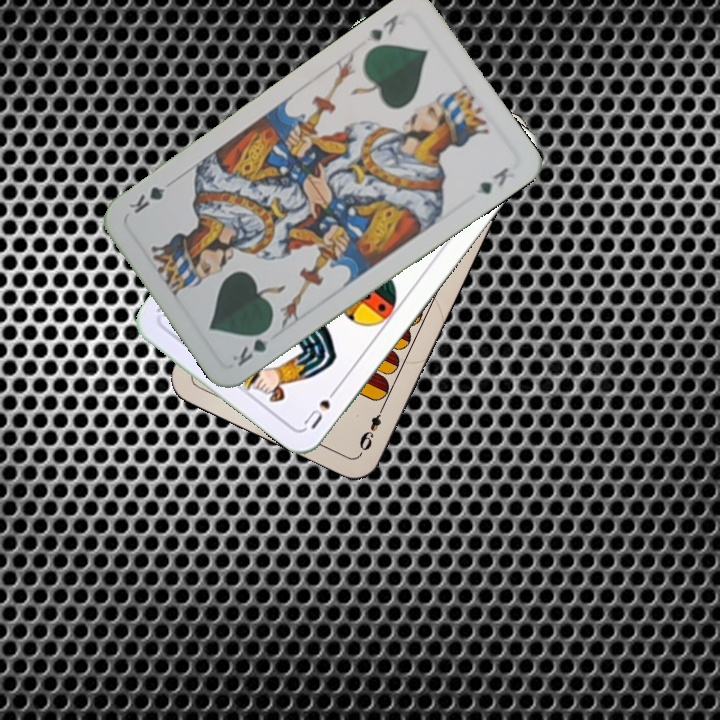E9: (355, 400, 388, 456)
GK: (228, 322, 274, 370), (362, 10, 402, 46)
SU: (299, 381, 342, 432)
